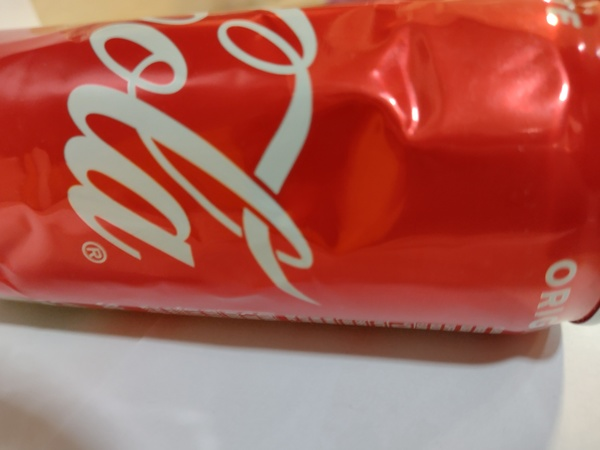can: (0, 1, 599, 345)
